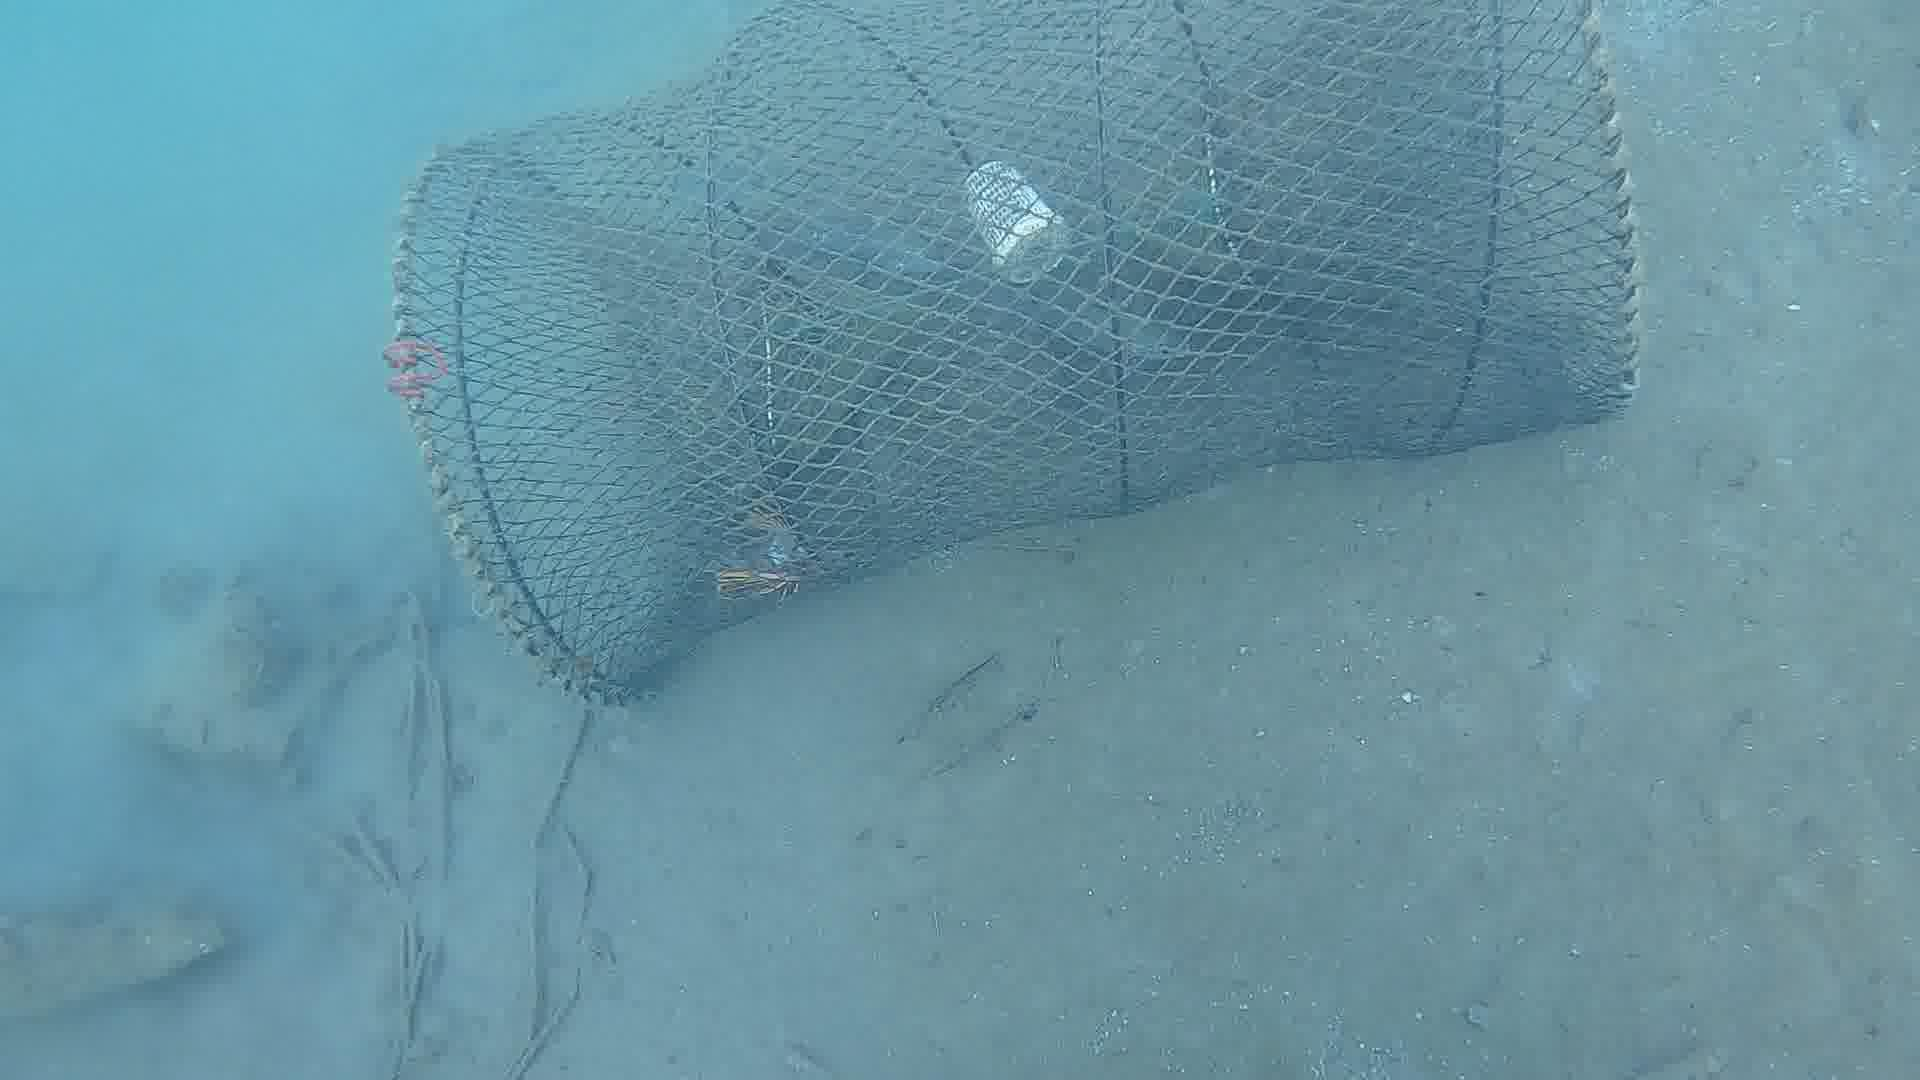spring fish trap: (378, 0, 1638, 704)
